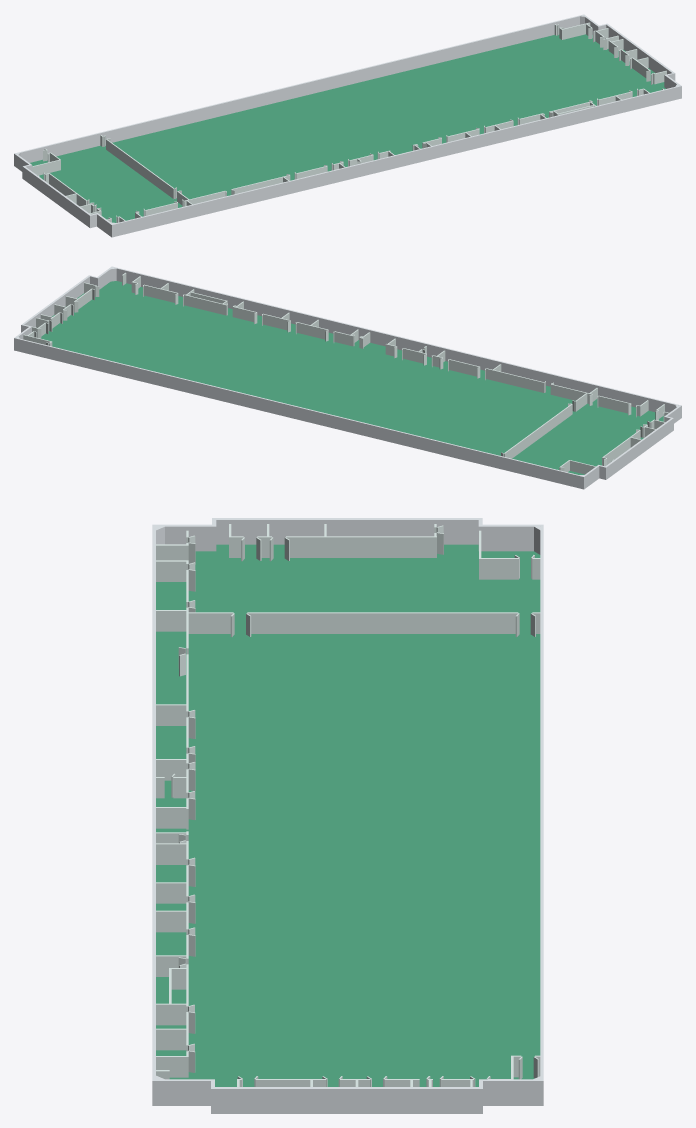
The model's file is wallFour.glb.
The picture shows the model from 3 angles, top to bottom: view 1: azimuth 30°, elevation 25°; view 2: azimuth 150°, elevation 25°; view 3: azimuth 270°, elevation 25°; orthographic projection. The views are drawn at different scales.
Visible parts, largest first — view 1: 平面.1, 立方体.1, 立方体.75, 立方体.65, 立方体.7; view 2: 平面.1, 立方体.1, 立方体.75, 立方体.7, 立方体.30, 立方体.6, 立方体.65, 立方体.31, 立方体.4; view 3: 平面.1, 立方体.1, 立方体.75, 立方体.65, 立方体.76, 立方体.71.
Boxes of the visible parts, bbox=[...] form: 平面.1: bbox=[30, 34, 665, 222]; 立方体.1: bbox=[14, 14, 681, 237]; 立方体.75: bbox=[106, 139, 174, 198]; 立方体.65: bbox=[49, 173, 87, 206]; 立方体.7: bbox=[231, 175, 290, 193]; 平面.1: bbox=[41, 281, 663, 474]; 立方体.1: bbox=[14, 266, 681, 489]; 立方体.75: bbox=[504, 404, 572, 458]; 立方体.7: bbox=[486, 368, 544, 392]; 立方体.30: bbox=[184, 294, 227, 315]; 立方体.6: bbox=[550, 384, 592, 403]; 立方体.65: bbox=[602, 430, 640, 465]; 立方体.31: bbox=[143, 284, 177, 302]; 立方体.4: bbox=[598, 395, 631, 413]; 平面.1: bbox=[156, 544, 540, 1086]; 立方体.1: bbox=[152, 518, 543, 1113]; 立方体.75: bbox=[247, 612, 518, 633]; 立方体.65: bbox=[286, 536, 436, 557]; 立方体.76: bbox=[188, 612, 233, 633]; 立方体.71: bbox=[479, 558, 518, 579].
Bounding box in the file's own units: 5043 × 103 × 1461.
